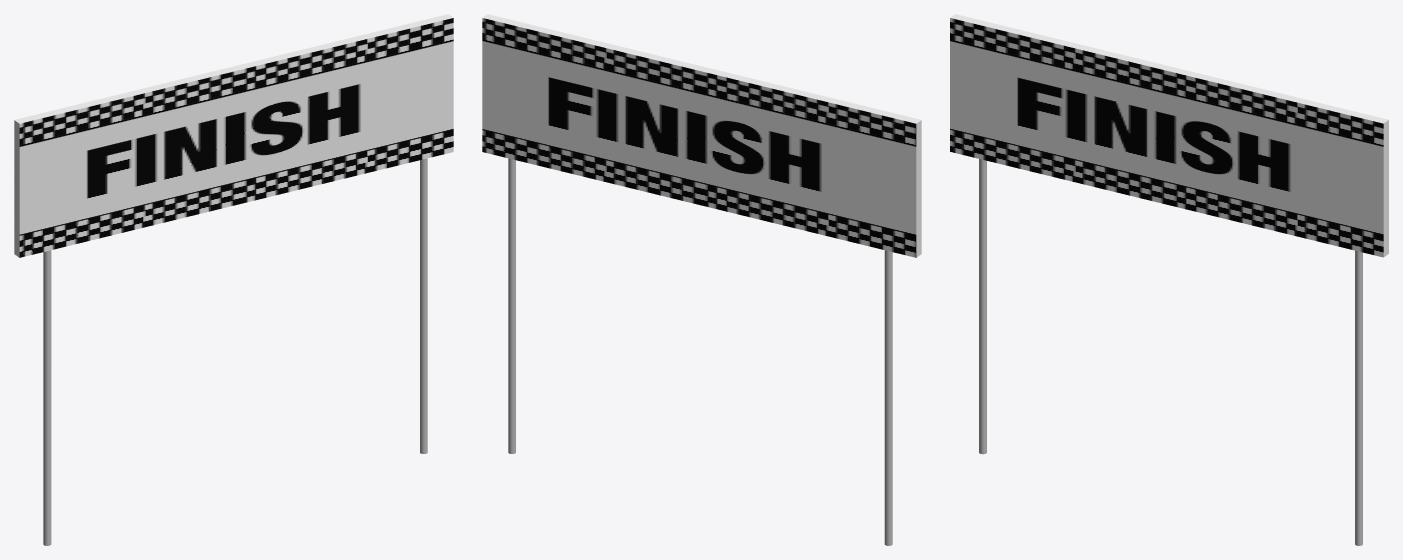
The model's file is Finish_Line.fbx.
3 renders of one model, left to right at view 1: azimuth 30°, elevation 25°; view 2: azimuth 150°, elevation 25°; view 3: azimuth 330°, elevation 25°, orthographic.
Parts seen in each view (by area): view 1: pCylinder3; view 2: pCylinder3; view 3: pCylinder3.
Part boxes in pixels (x1,y1,x2,y2): pCylinder3: [14, 14, 453, 545]; pCylinder3: [482, 14, 921, 545]; pCylinder3: [950, 14, 1388, 545].
Bounding box in the file's own units: 24.99 × 23.64 × 0.5283.
Materials: 2 (1 with a texture image).
